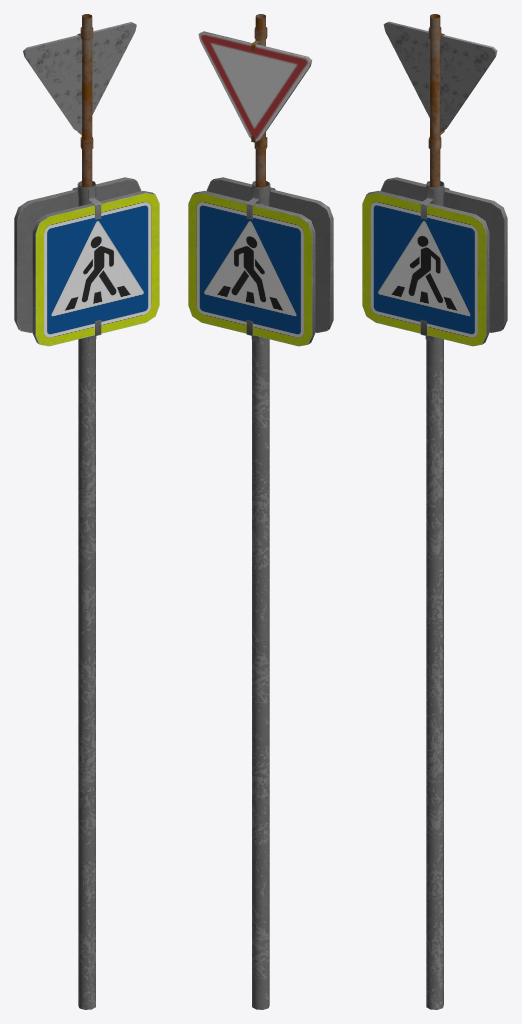
The model's file is GiveWaySign.fbx.
3 views of the same model, side by side, from view 1: azimuth 30°, elevation 25°; view 2: azimuth 150°, elevation 25°; view 3: azimuth 330°, elevation 25° (orthographic).
Visible parts, largest first — view 1: fascetta_03.005, Plane; view 2: fascetta_03.005, Plane; view 3: fascetta_03.005, Plane.
Part boxes in pixels (x1=…): fascetta_03.005: x1=14, y1=177, x2=159, y2=1009; Plane: x1=23, y1=14, x2=136, y2=187; fascetta_03.005: x1=188, y1=177, x2=333, y2=1009; Plane: x1=198, y1=14, x2=312, y2=187; fascetta_03.005: x1=362, y1=177, x2=507, y2=1009; Plane: x1=383, y1=14, x2=497, y2=187.
Bounding box in the file's own units: 47.36 × 361 × 14.87.
